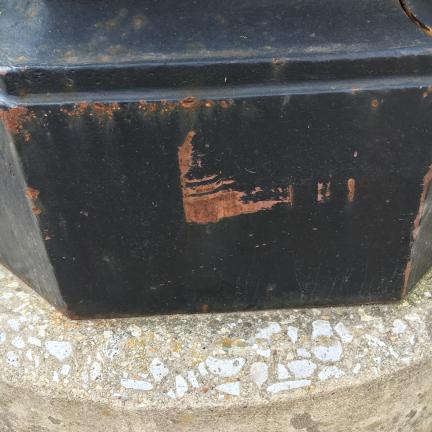karat: (178, 131, 293, 224)
